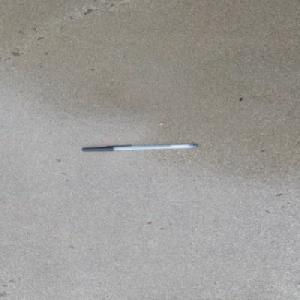Pen: (80, 142, 198, 151)
